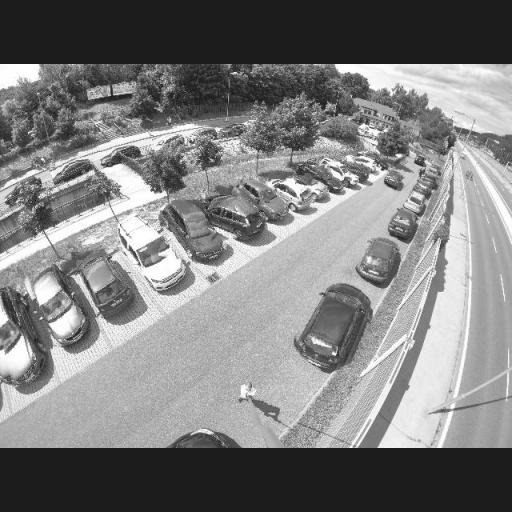busy: (290, 282, 376, 370), (120, 210, 187, 291), (28, 261, 90, 347), (0, 276, 47, 386), (160, 201, 232, 265), (76, 250, 136, 318), (204, 194, 266, 240), (354, 236, 404, 282), (236, 181, 288, 219), (270, 180, 316, 208), (319, 157, 363, 185), (49, 157, 95, 182), (303, 165, 345, 192), (4, 179, 44, 202), (295, 175, 329, 201), (100, 147, 140, 167), (385, 212, 415, 238), (348, 154, 380, 177), (153, 133, 185, 153), (382, 171, 406, 191)
free: (214, 364, 306, 430)
